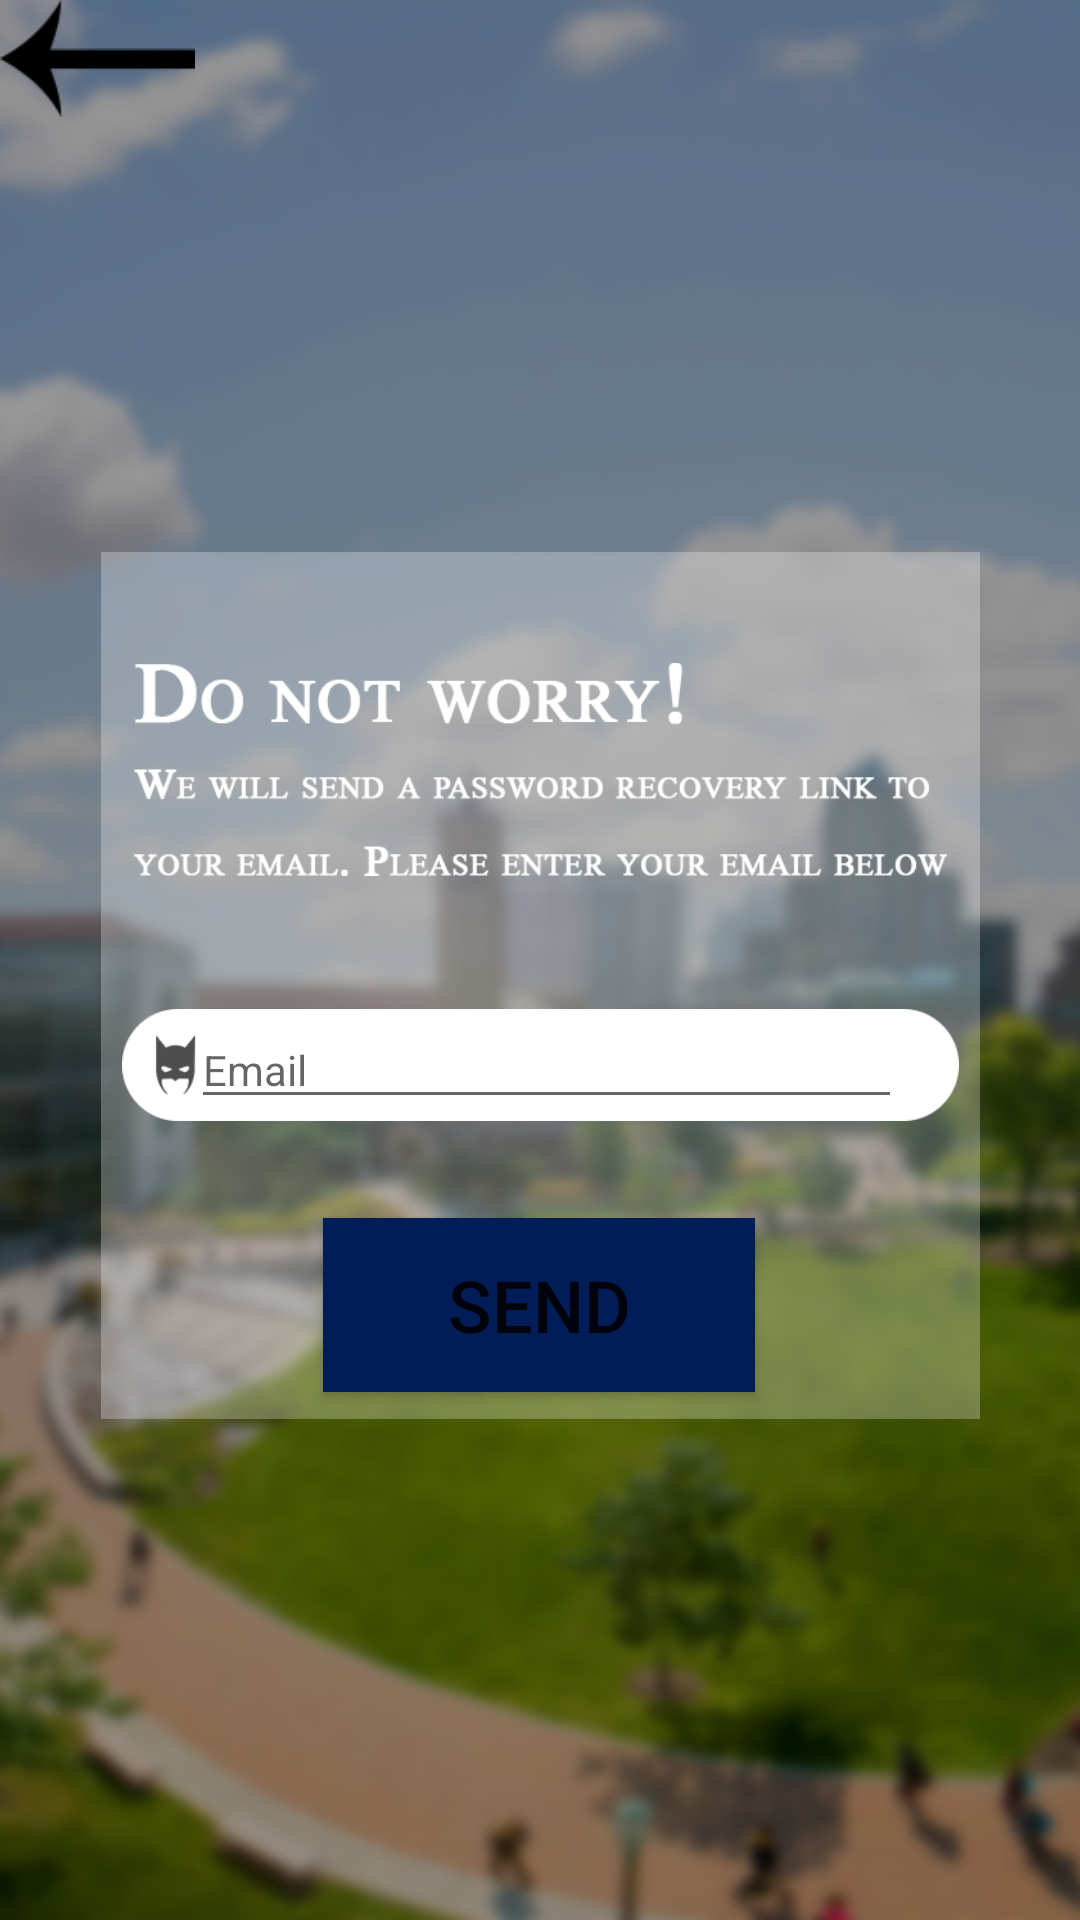

Screen size 1080 x 1920. Icon name, then its box in pixels as box(x1, y1, x2, y2):
back: box(0, 0, 195, 117)
